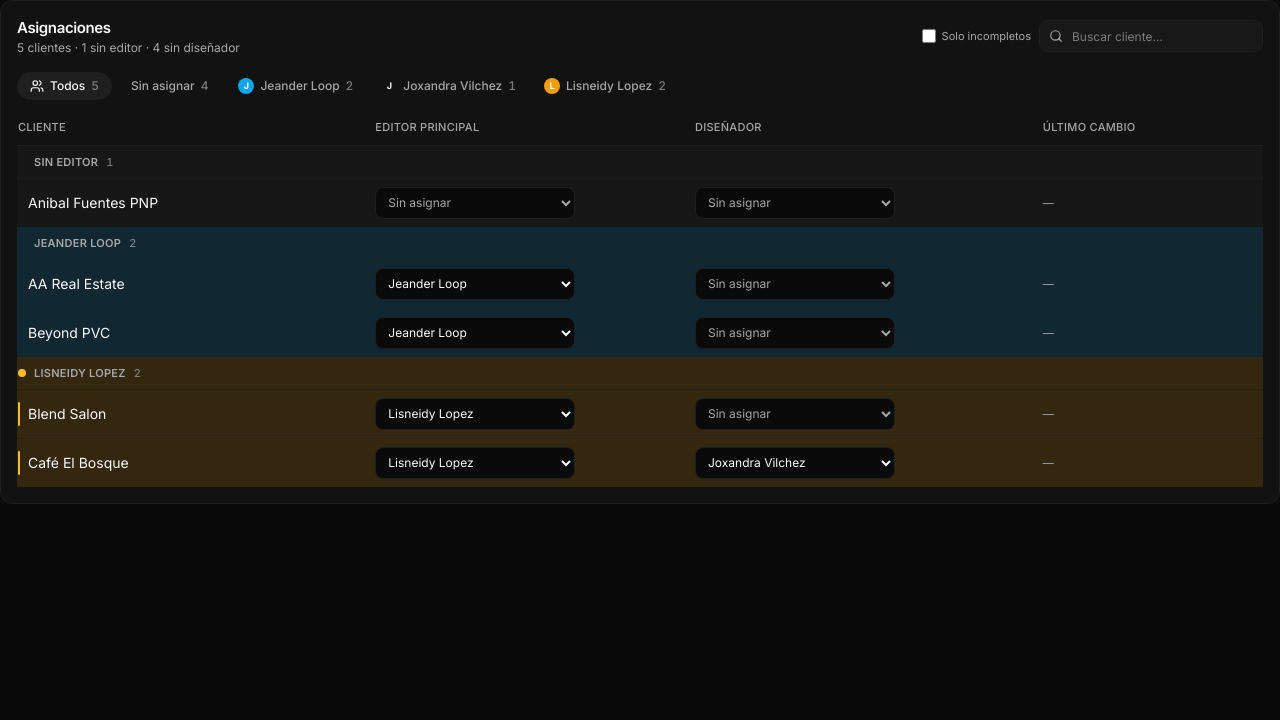
Scenario: AssignmentsTable › filtering to an assigned person gathers their clients together
Click the button "J Jeander Loop 2": click(296, 86) [228,72,364,100]
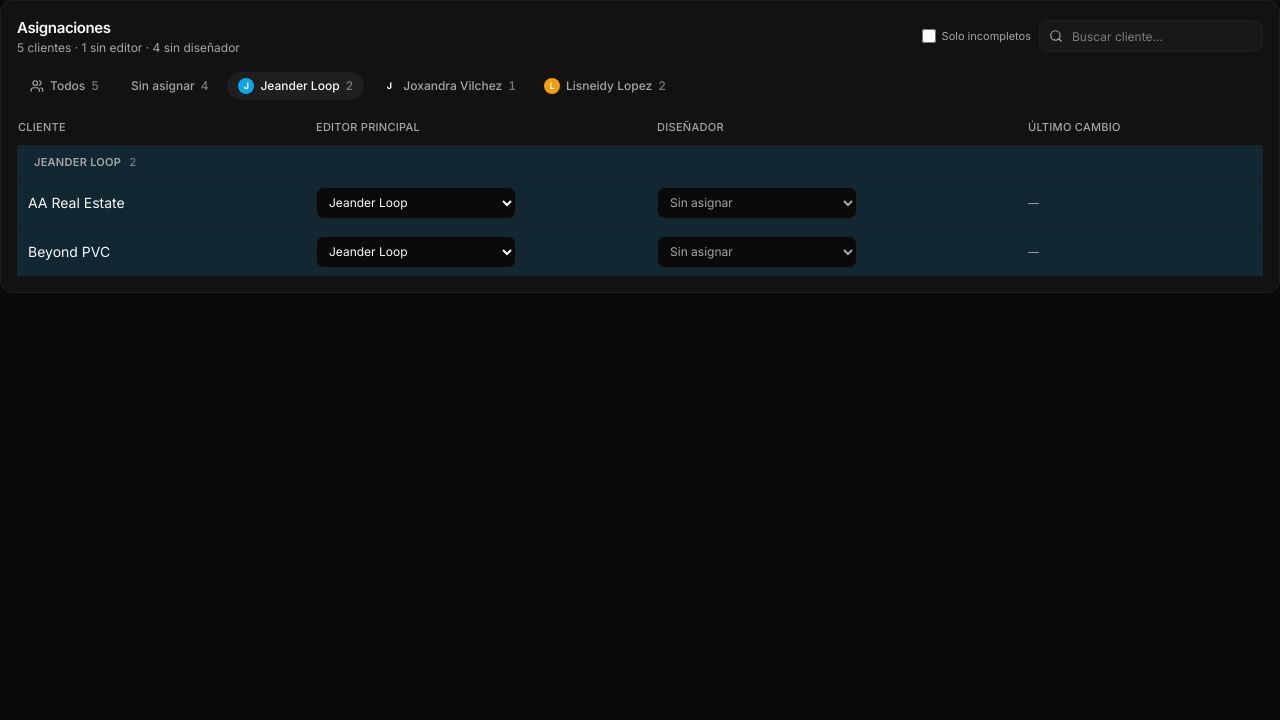
Expected: the text "AA Real Estate" is shown, [28,192,125,212]
Expected: the text "Blend Salon" is gone
Expected: the text "Anibal Fuentes PNP" is gone
